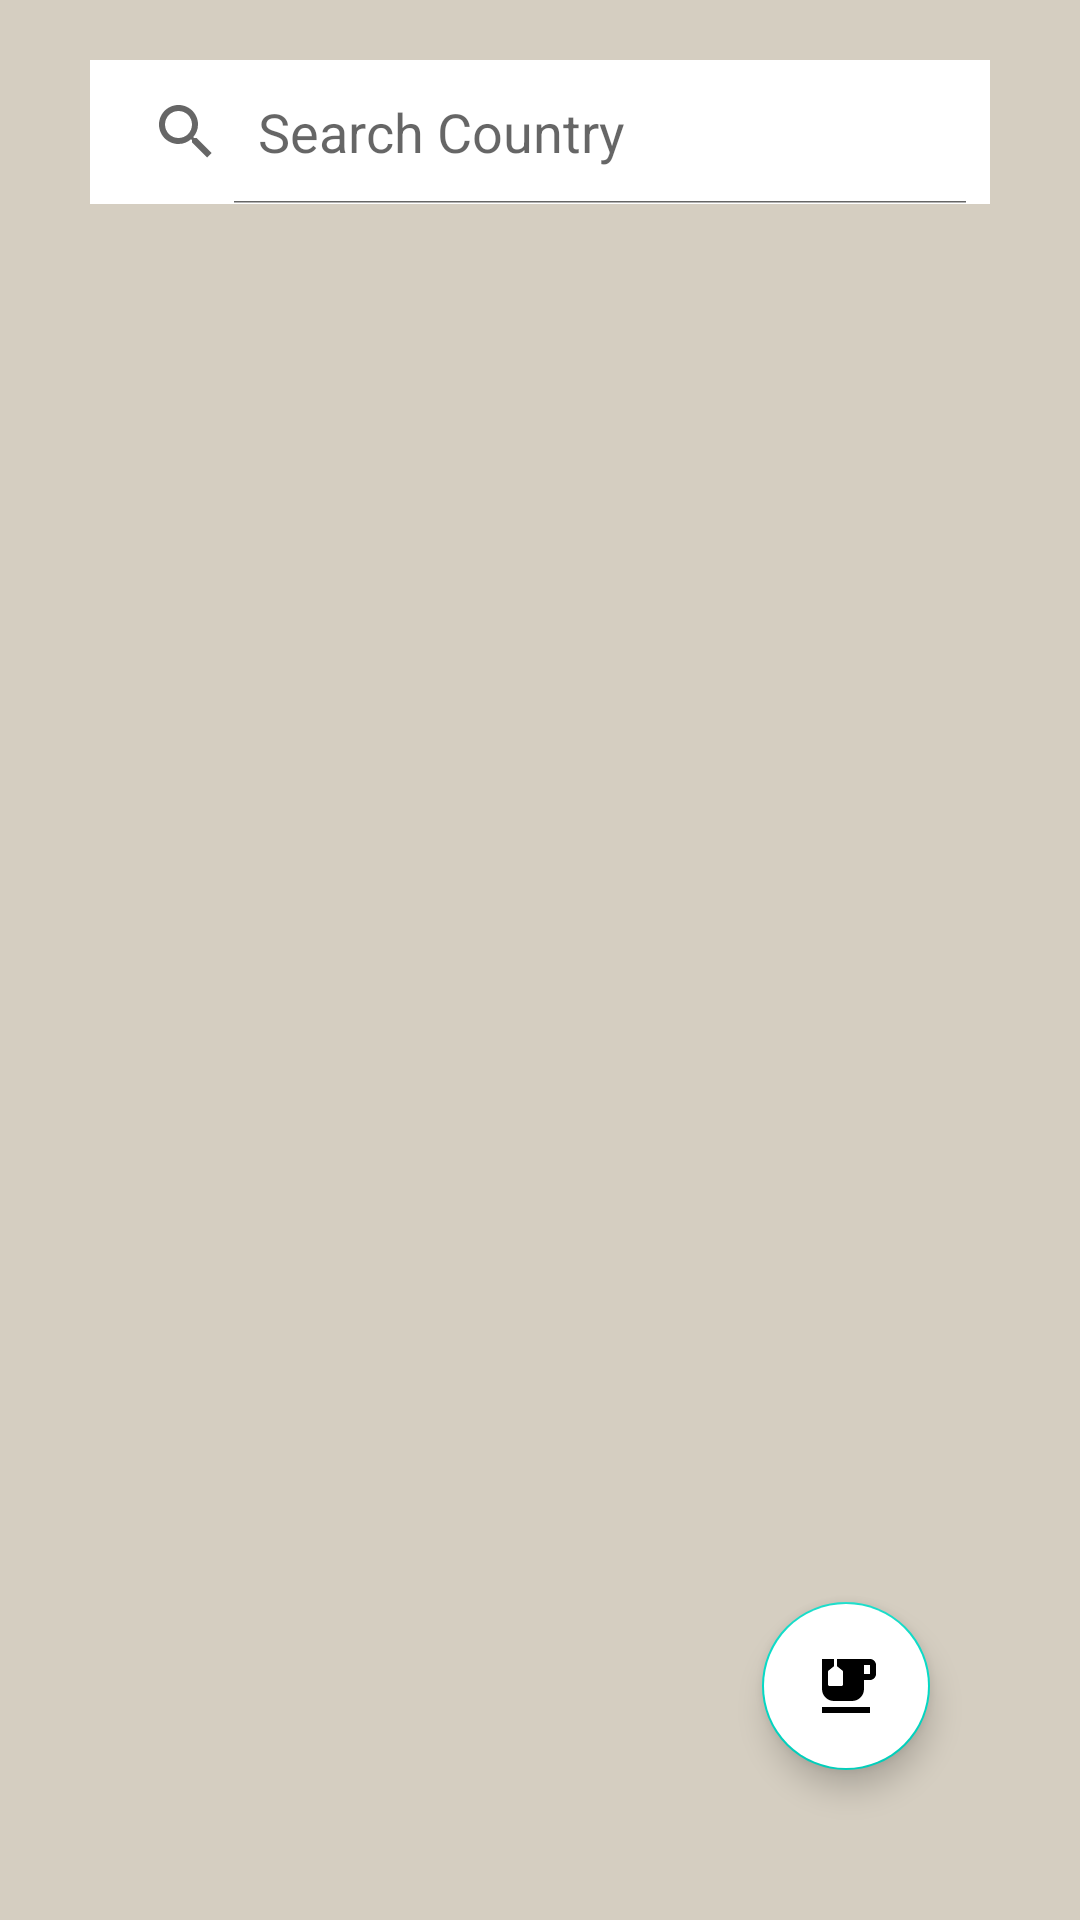

Point at icon controls on the screen. Image size 1080px×1920px, points as [x,y].
emoji food beverage: [846,1686]
